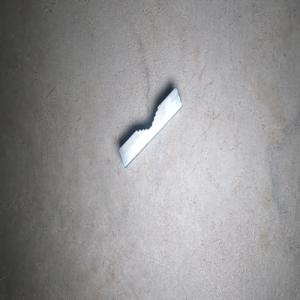ClampPart: (118, 86, 183, 168)
